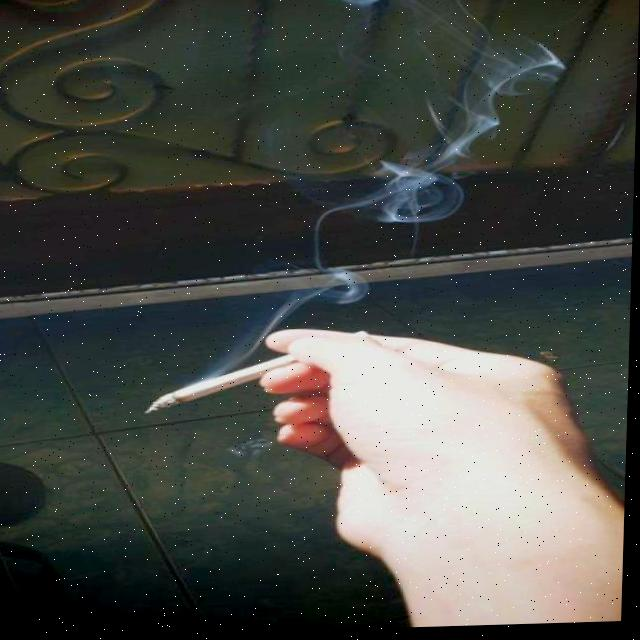cigarette: (149, 355, 303, 414)
